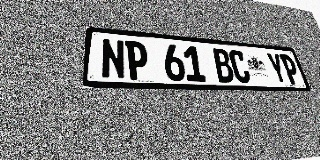1: (182, 45, 206, 82)
6: (162, 44, 187, 81)
B: (211, 48, 236, 83)
C: (228, 50, 252, 83)
N: (101, 38, 126, 80)
P: (125, 40, 149, 80), (279, 54, 302, 84)
Y: (266, 53, 289, 84)
